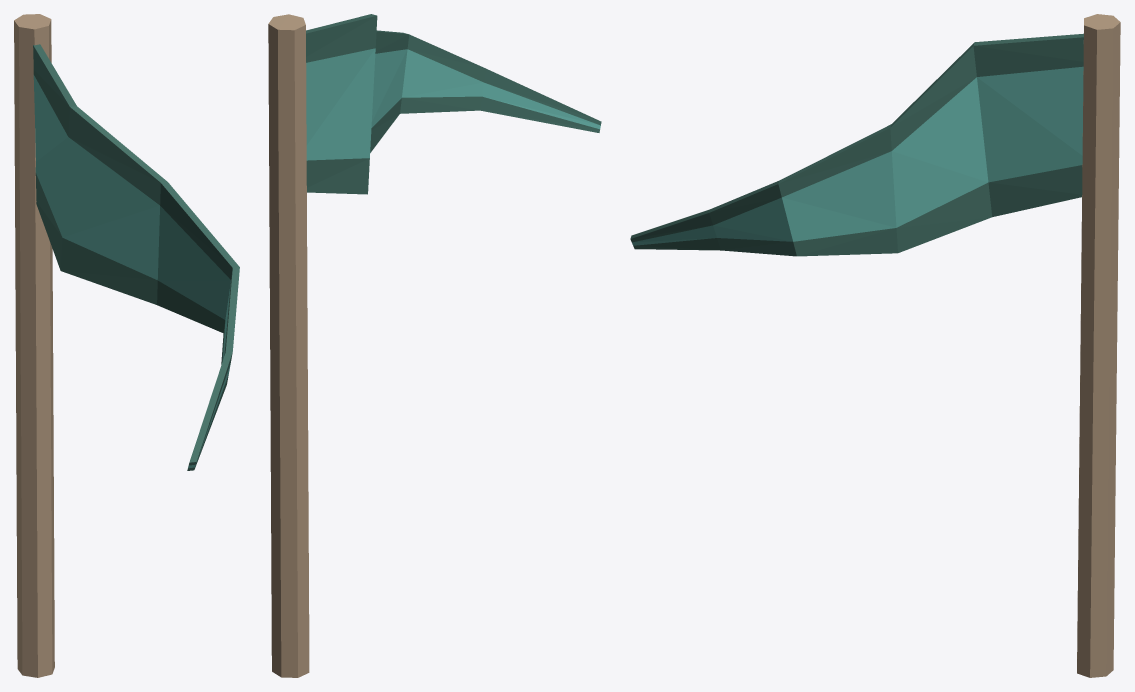
Rendered from Flag.fbx.
3 views of the same model, side by side, from view 1: azimuth 30°, elevation 25°; view 2: azimuth 150°, elevation 25°; view 3: azimuth 270°, elevation 25° (orthographic).
Visible parts, largest first — view 1: Flag; view 2: Flag; view 3: Flag.
Boxes of the visible parts, bbox=[...] form: Flag: bbox=[14, 14, 239, 677]; Flag: bbox=[268, 14, 601, 677]; Flag: bbox=[630, 14, 1120, 677].
Bounding box in the file's own units: 117 × 585 × 401.
